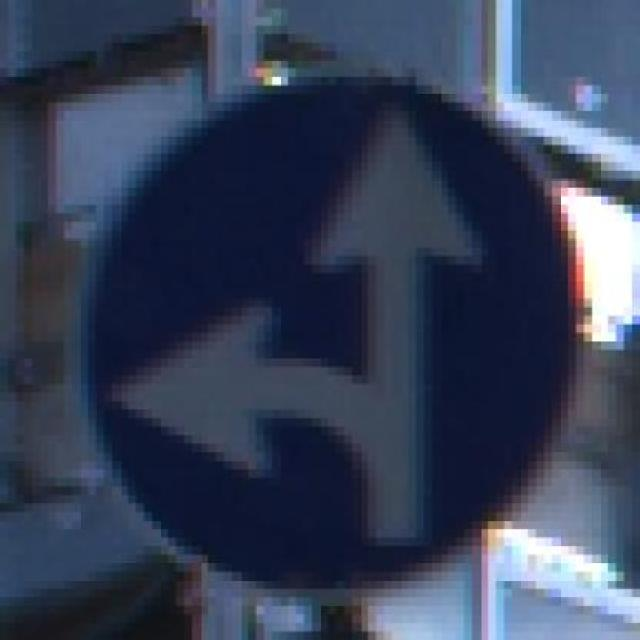Go straight or turn left: (49, 42, 616, 588)
